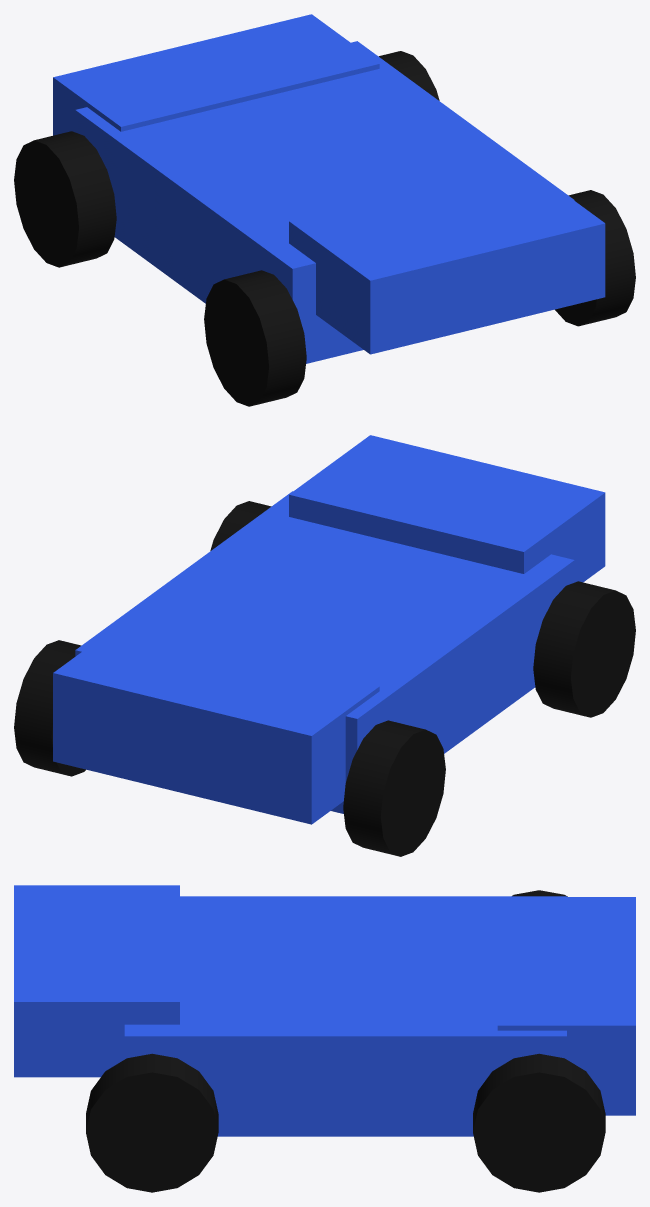
Rendered from octane.glb.
3 renders of one model, top to bottom at view 1: azimuth 30°, elevation 25°; view 2: azimuth 150°, elevation 25°; view 3: azimuth 270°, elevation 25°, orthographic.
Size of the model in its own units: 78 by 31.5 by 112.
